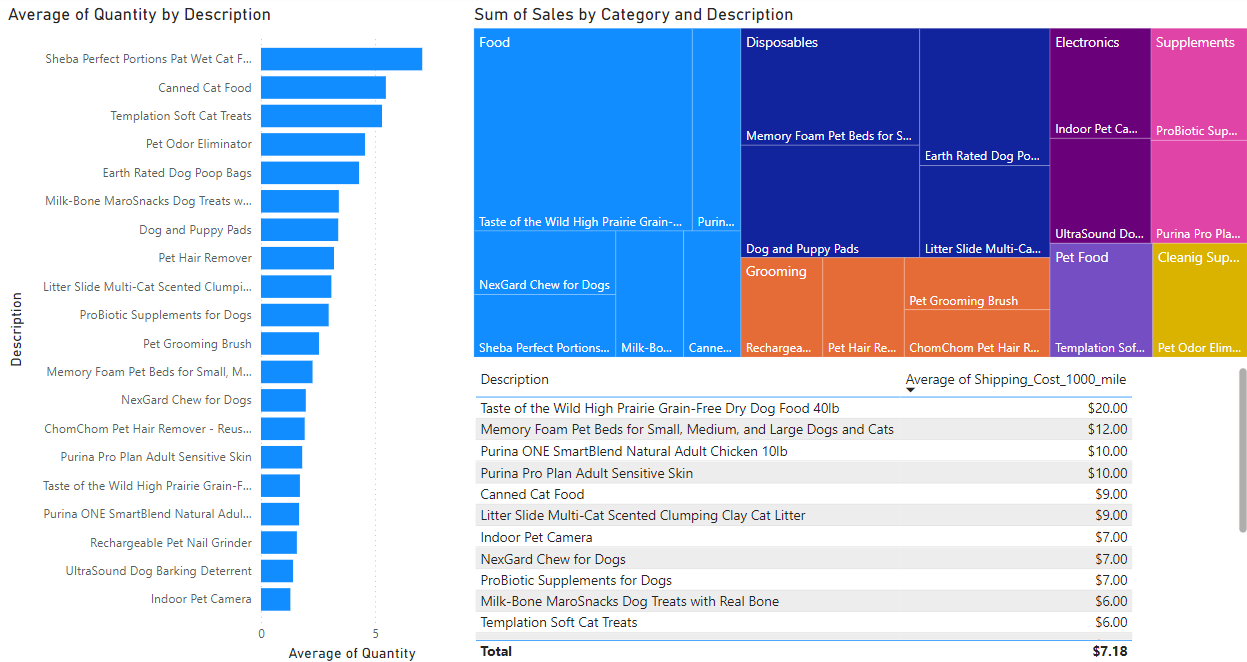

Layout of this report page (visuals, bound fields, positions):
{"tool":"powerbi","page":{"name":"Product Info","canvas":[1280,720],"ordinal":2},"visuals":[{"type":"clusteredBarChart","fields":{"Category":["Sales.Description"],"Y":["Avg(Sales.Quantity)"]},"box":[57.5,8.6,440.2,648.1],"z":0},{"type":"treemap","fields":{"Group":["Products.Category"],"Values":["Sum(Sales.Sales)"],"Details":["Sales.Description"]},"box":[513.6,8.6,766.7,351],"z":1000},{"type":"tableEx","fields":{"Values":["Products.Description","Avg(Products.Shipping_Cost_1000_mile)"]},"box":[513.6,359.5,766.4,297.1],"z":2000}]}

Visuals, with their boxes on the page's 1280x720 design canvas (x1, y1, x2, y2). These are canvas units, not pixel positions in the 1247x662 screenshot, which may show the page scaled, cropped or inside an application window:
clusteredBarChart - Sales.Description x Avg(Sales.Quantity): (left=58, top=9, right=498, bottom=657)
treemap - Products.Category x Sum(Sales.Sales): (left=514, top=9, right=1280, bottom=360)
tableEx - Products.Description x Avg(Products.Shipping_Cost_1000_mile): (left=514, top=360, right=1280, bottom=657)
